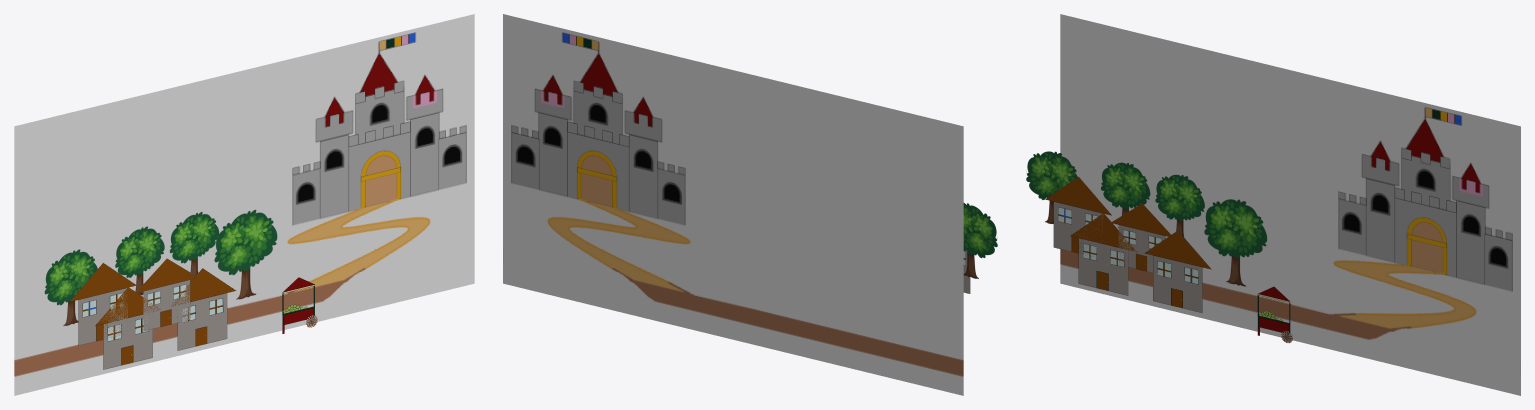
File: Castle3DModel.glb
3 renders of one model, left to right at view 1: azimuth 30°, elevation 25°; view 2: azimuth 150°, elevation 25°; view 3: azimuth 330°, elevation 25°, orthographic.
Parts seen in each view (by area): view 1: mesh_id1, mesh_id64, mesh_id71, mesh_id160, mesh_id101, mesh_id103, mesh_id158, mesh_id159, mesh_id186, mesh_id162; view 2: mesh_id1, mesh_id158; view 3: mesh_id1, mesh_id71, mesh_id64, mesh_id160, mesh_id101, mesh_id103, mesh_id186, mesh_id158, mesh_id159, mesh_id162.
Boxes of the visible parts, box(x1,y1,x2,y2) form: mesh_id1: box(14, 14, 474, 395); mesh_id64: box(171, 268, 236, 350); mesh_id71: box(95, 287, 160, 369); mesh_id160: box(214, 209, 277, 299); mesh_id101: box(70, 263, 136, 345); mesh_id103: box(135, 258, 197, 331); mesh_id158: box(44, 249, 97, 325); mesh_id159: box(115, 226, 164, 295); mesh_id186: box(169, 212, 219, 281); mesh_id162: box(282, 277, 317, 333); mesh_id1: box(503, 14, 963, 395); mesh_id158: box(963, 203, 997, 278); mesh_id1: box(1060, 14, 1520, 395); mesh_id71: box(1070, 213, 1137, 295); mesh_id64: box(1144, 230, 1211, 312); mesh_id160: box(1204, 199, 1267, 286); mesh_id101: box(1045, 176, 1111, 259); mesh_id103: box(1111, 203, 1170, 272); mesh_id186: box(1155, 174, 1204, 236); mesh_id158: box(1026, 151, 1077, 223); mesh_id159: box(1100, 162, 1150, 227); mesh_id162: box(1257, 286, 1292, 342).
Size of the model in its own units: 2.27 by 1.26 by 0.3.
Materials: 10 (10 with a texture image).
